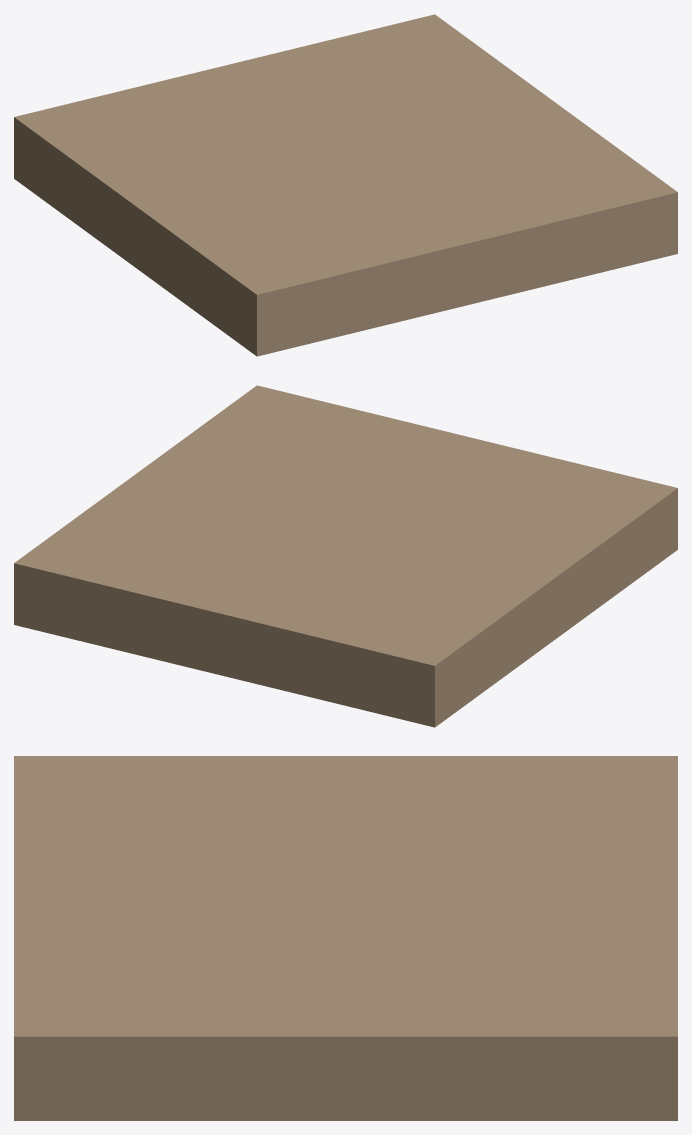
Rendered from floor_slab.glb.
The picture shows the model from 3 angles, top to bottom: view 1: azimuth 30°, elevation 25°; view 2: azimuth 150°, elevation 25°; view 3: azimuth 270°, elevation 25°; orthographic projection. The views are drawn at different scales.
Visible parts, largest first — view 1: Floor slab; view 2: Floor slab; view 3: Floor slab.
Boxes of the visible parts, x1=… form: Floor slab: x1=14, y1=14, x2=677, y2=356; Floor slab: x1=14, y1=385, x2=677, y2=727; Floor slab: x1=14, y1=756, x2=677, y2=1120.
Bounding box in the file's own units: 1 × 0.14 × 1.
